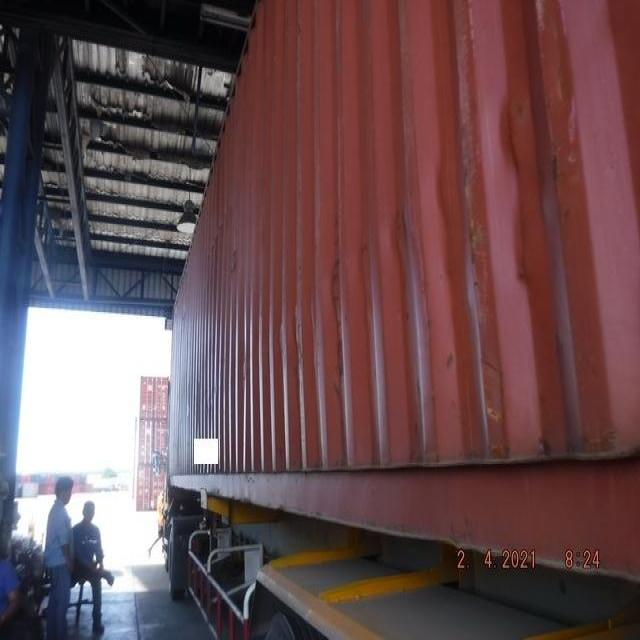dent: (471, 99, 577, 291)
